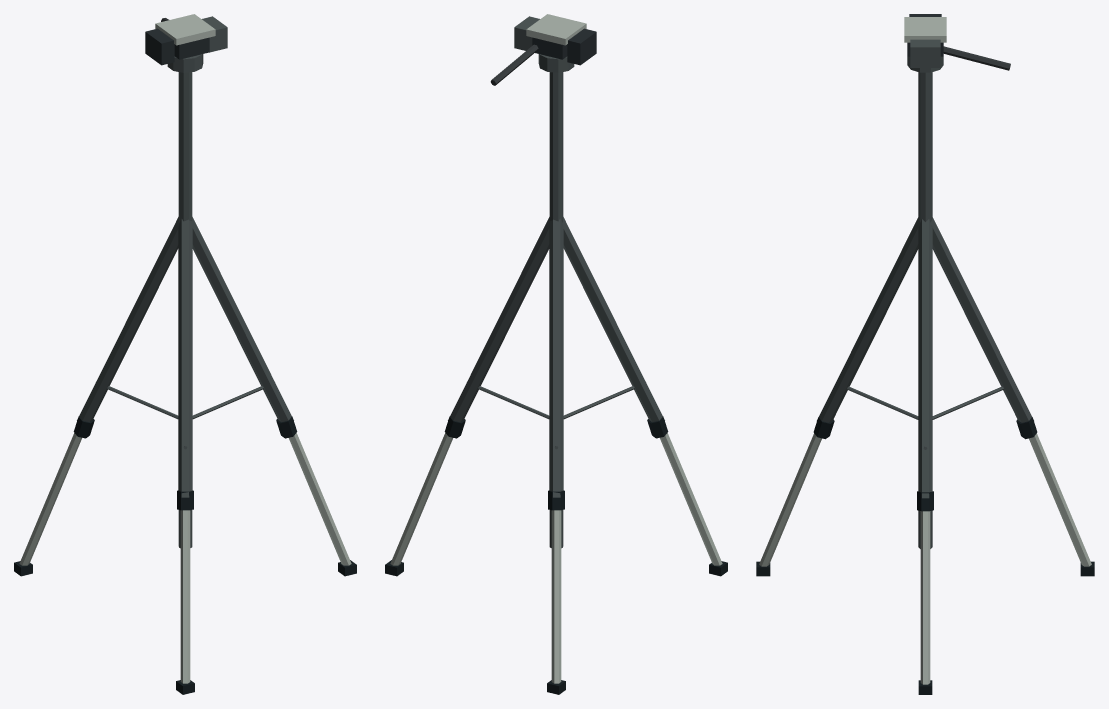
File: blender_tripod_3.glb
3 renders of one model, left to right at view 1: azimuth 30°, elevation 25°; view 2: azimuth 150°, elevation 25°; view 3: azimuth 270°, elevation 25°, orthographic.
Visible parts, largest first — view 1: blender_tripod_3; view 2: blender_tripod_3; view 3: blender_tripod_3.
Part boxes in pixels (x1,y1,x2,y2): blender_tripod_3: [14, 14, 356, 694]; blender_tripod_3: [385, 14, 727, 694]; blender_tripod_3: [756, 14, 1094, 694].
Bounding box in the file's own units: 0.488 × 1.07 × 0.5599.
1 material, 1 textured.
